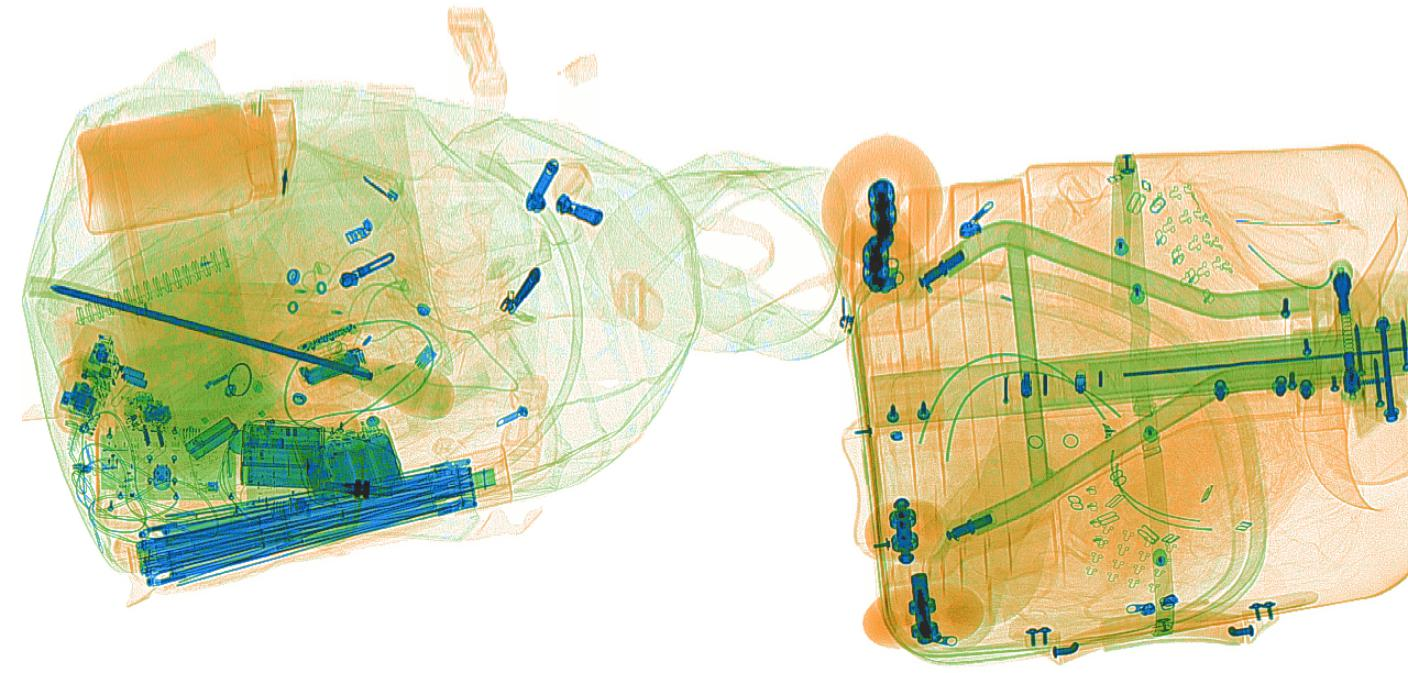battery: (288, 415, 405, 505), (237, 420, 325, 491), (182, 412, 241, 461), (303, 351, 361, 387)
